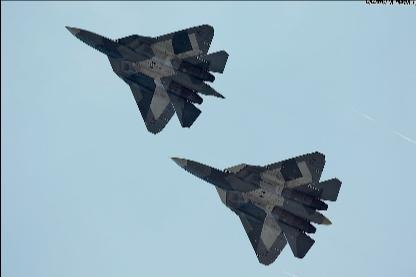SR71: (169, 151, 342, 265), (64, 24, 228, 134)
